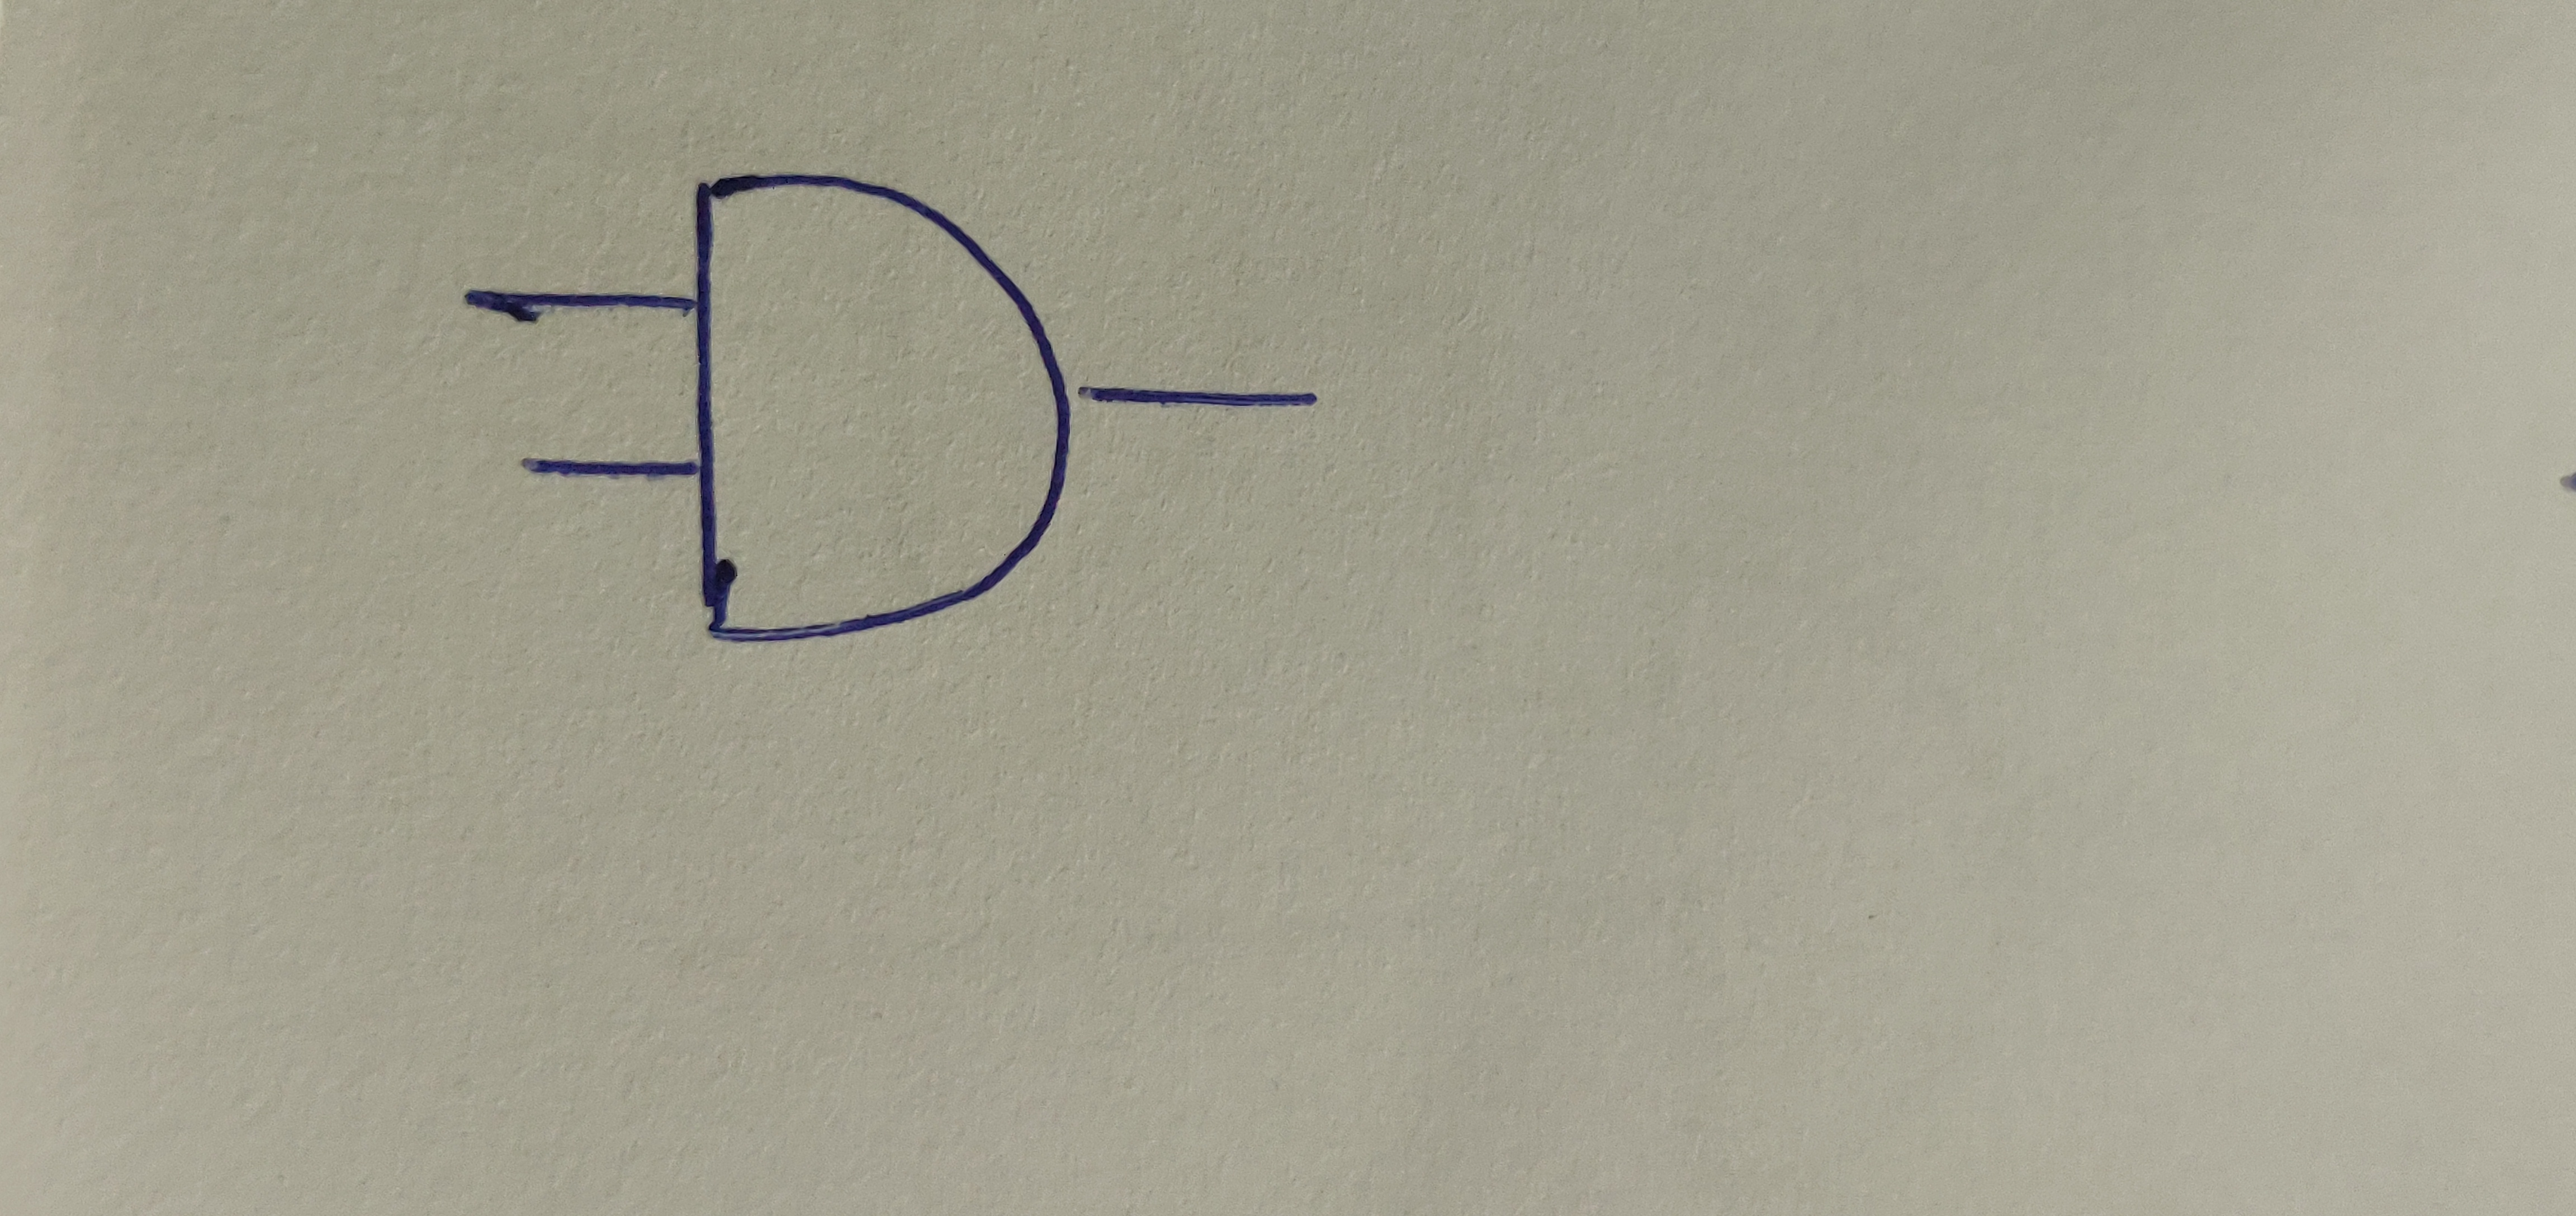and: (697, 174, 1071, 646)
